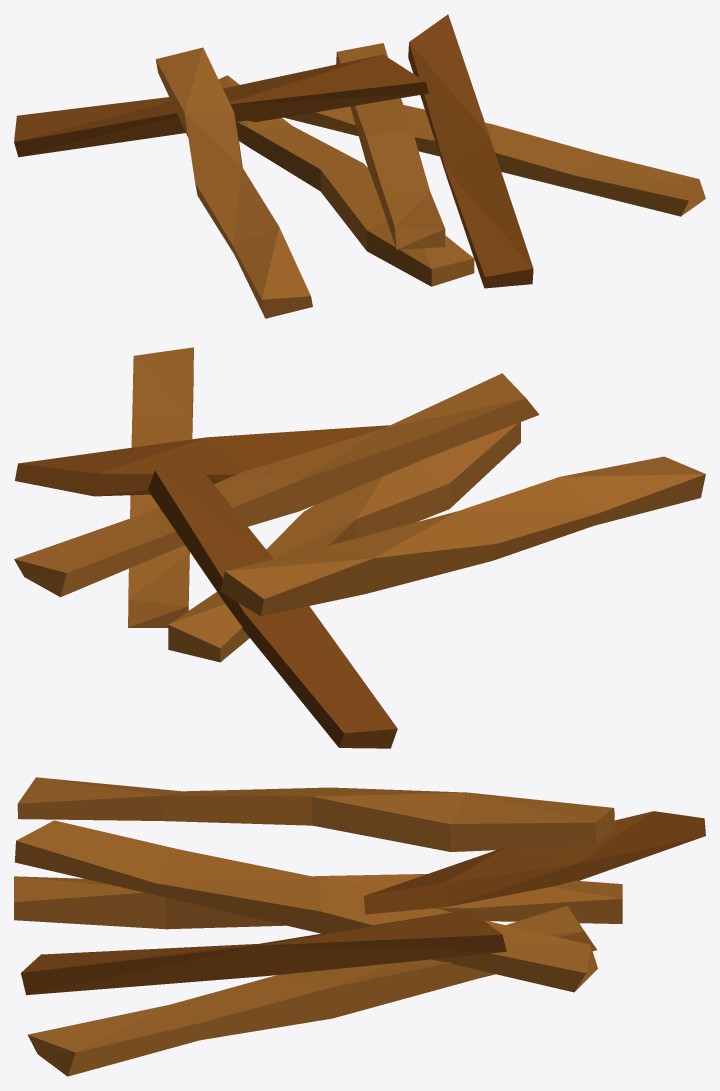
The model's file is Group_Plank_01.fbx.
The picture shows the model from 3 angles, top to bottom: view 1: azimuth 30°, elevation 25°; view 2: azimuth 150°, elevation 25°; view 3: azimuth 270°, elevation 25°; orthographic projection. The views are drawn at different scales.
Parts seen in each view (by area): view 1: Planks_Group_01; view 2: Planks_Group_01; view 3: Planks_Group_01.
Part boxes in pixels (x1,y1,x2,y2): Planks_Group_01: (14,14,705,318); Planks_Group_01: (14,347,705,748); Planks_Group_01: (14,777,705,1076).
Bounding box in the file's own units: 2.67 × 0.5709 × 2.84.
